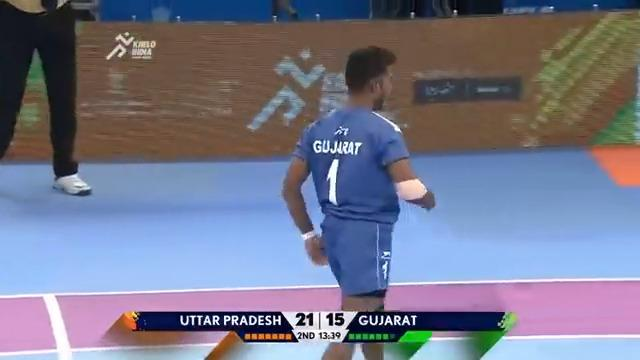Player: (280, 44, 436, 358)
referee: (0, 0, 94, 196)
